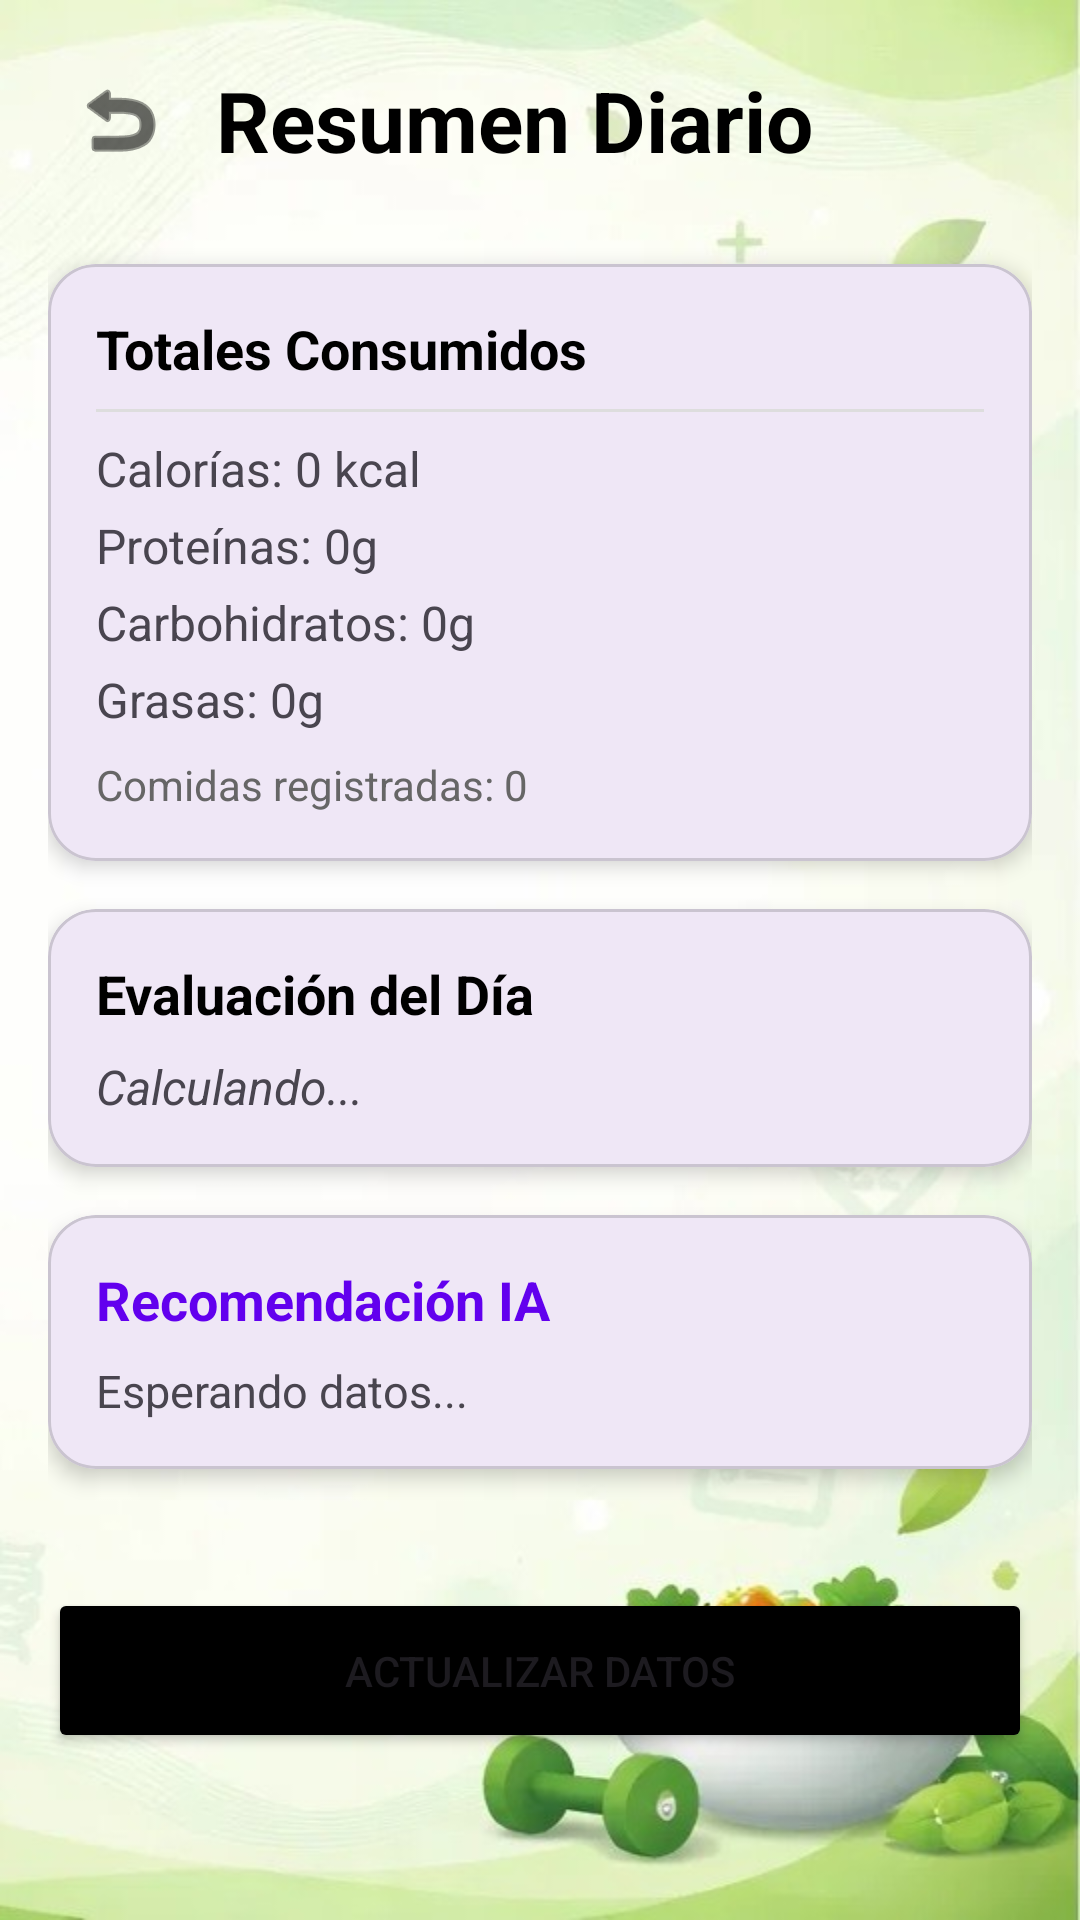

Point at icon controls on the screen. Image size 1080 × 1920, points as (x,y).
Volver a ingresar comida: (121,120)
